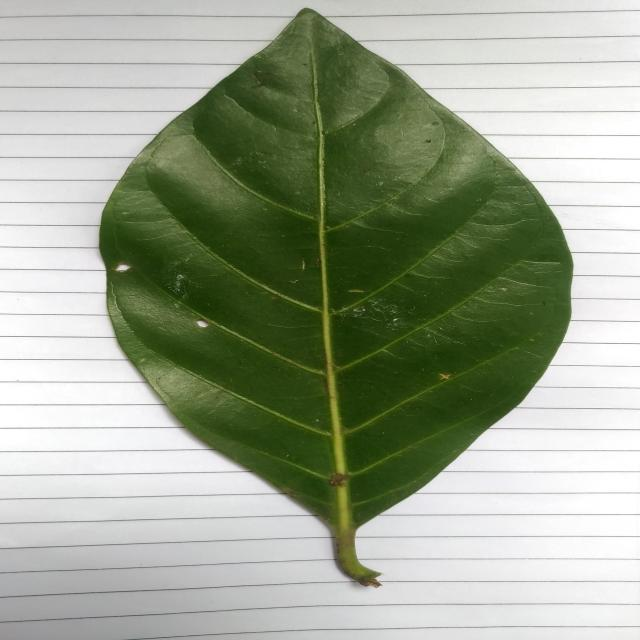nooni: (100, 9, 573, 586)
